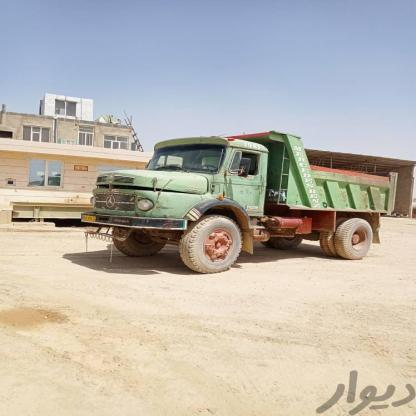Truck: (73, 126, 390, 268)
